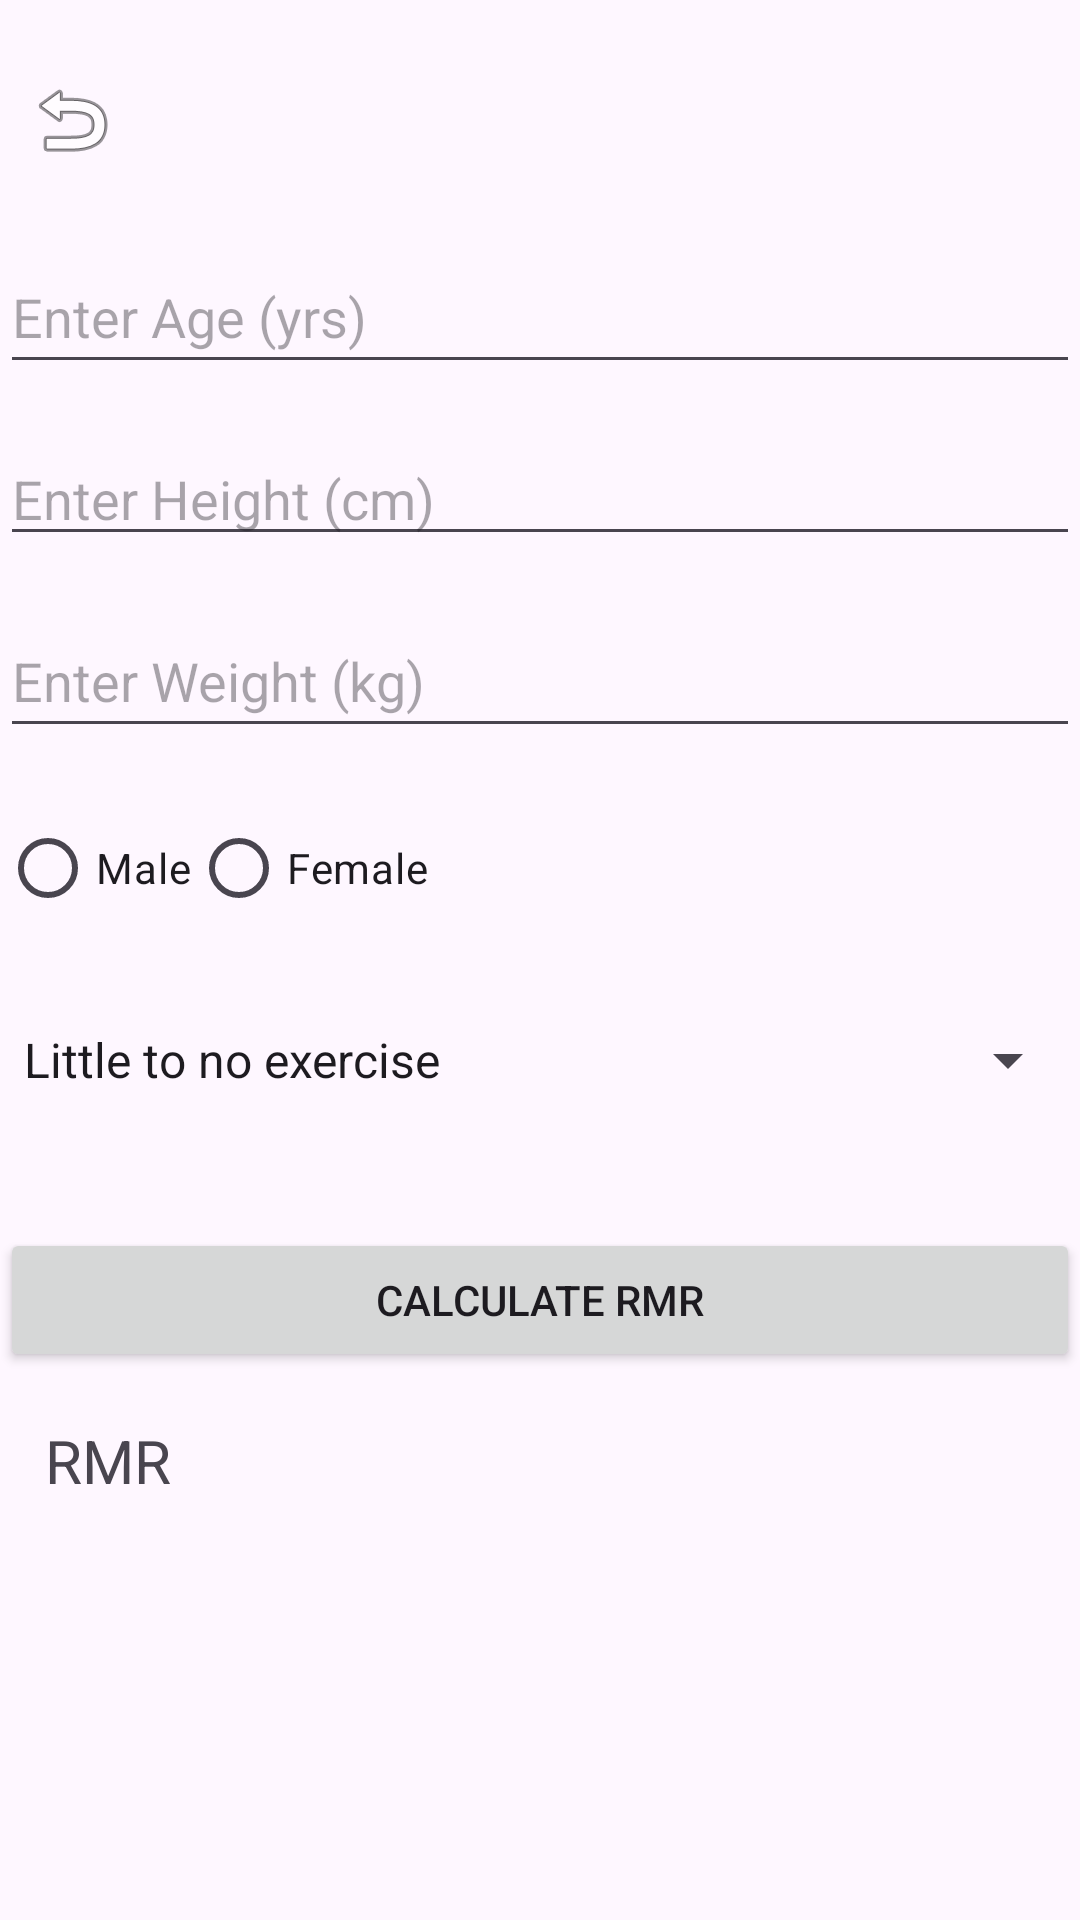

Icons on this 1080 × 1920 Android screen, each with the point to tap as (x,y):
Back: (73,120)
